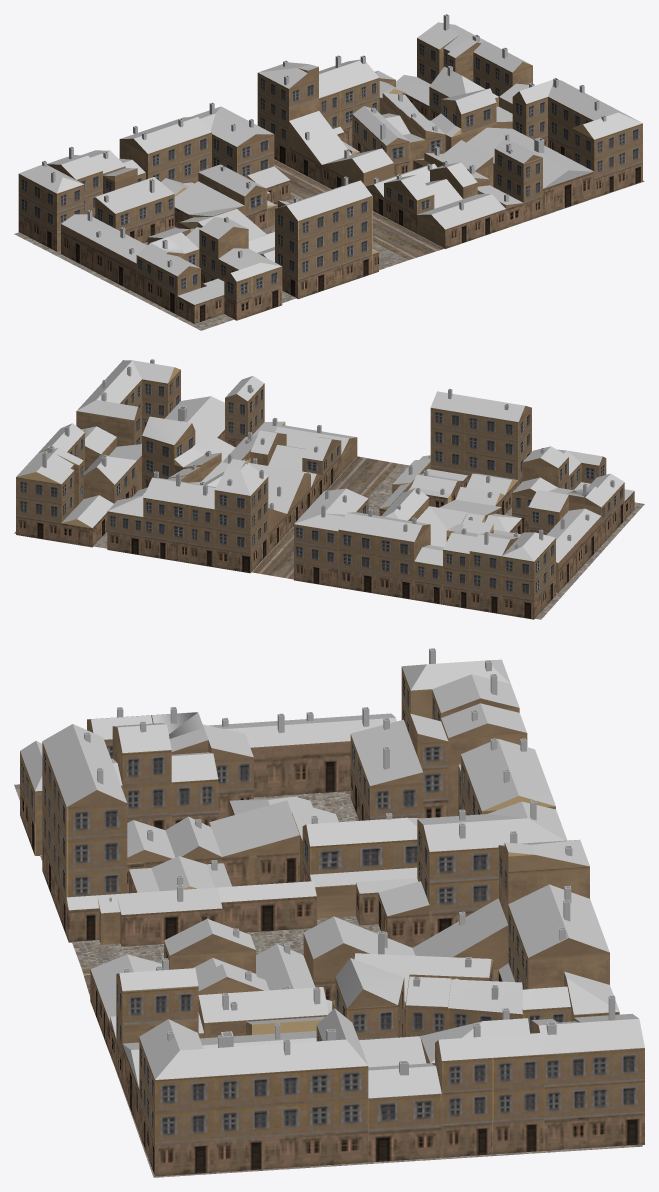
The model's file is IDL_Etape4.dae.
3 renders of one model, top to bottom at view 1: azimuth 30°, elevation 25°; view 2: azimuth 150°, elevation 25°; view 3: azimuth 270°, elevation 25°, orthographic. The views are drawn at different scales.
Parts seen in each view (by area): view 1: Batiment1, Toit, Face, IDL_Etape4_Cheminees, Route, Sol; view 2: Batiment1, Toit, Face, Route, IDL_Etape4_Cheminees, Sol; view 3: Batiment1, Toit, Face, IDL_Etape4_Cheminees, Sol.
Part boxes in pixels (x1,y1,x2,y2): Batiment1: (18,38,642,323); Toit: (19,22,642,304); Face: (47,35,541,281); IDL_Etape4_Cheminees: (42,14,606,267); Route: (274,160,443,260); Sol: (14,145,644,330); Batiment1: (16,367,634,619); Toit: (16,360,634,565); Face: (74,394,605,555); Route: (252,456,398,579); IDL_Etape4_Cheminees: (42,359,614,549); Sol: (14,456,644,619); Batiment1: (20,667,644,1176); Toit: (20,659,644,1098); Face: (67,689,609,1059); IDL_Etape4_Cheminees: (84,648,615,1075); Sol: (14,784,642,1177).
Size of the model in its own units: 358 by 224 by 60.53.
